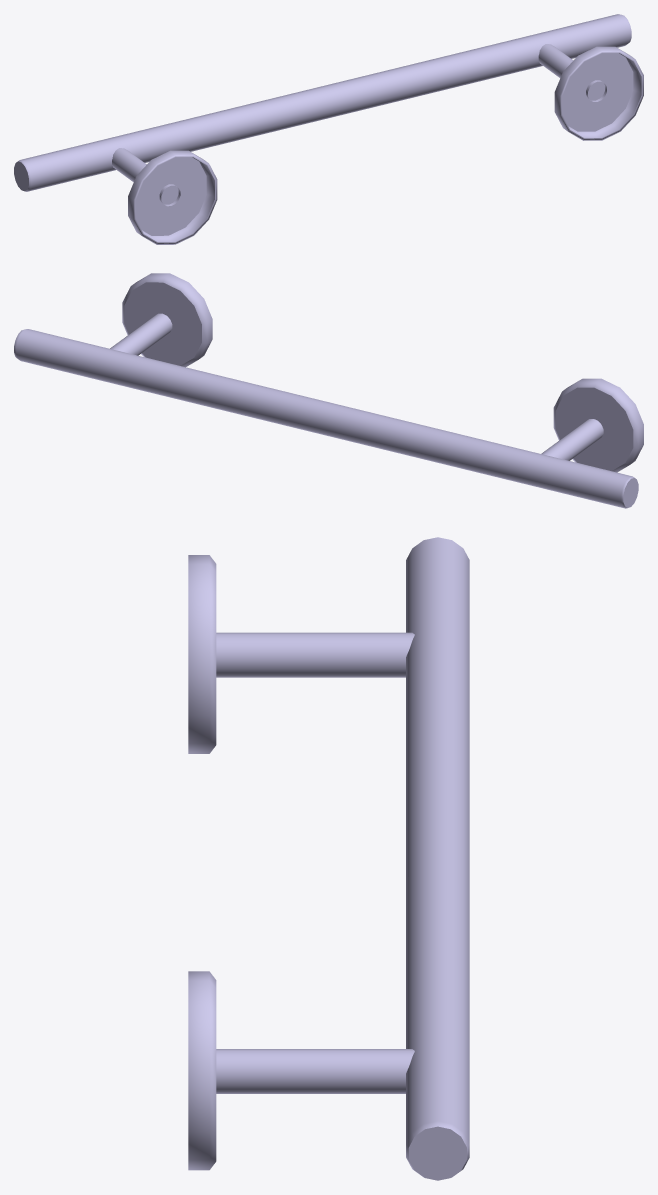
File: Friday_Towel_Rack.fbx
3 views of the same model, one above another, from view 1: azimuth 30°, elevation 25°; view 2: azimuth 150°, elevation 25°; view 3: azimuth 270°, elevation 25° (orthographic). The views are drawn at different scales.
Parts seen in each view (by area): view 1: TowelRack; view 2: TowelRack; view 3: TowelRack.
Part boxes in pixels (x1=…): TowelRack: x1=14, y1=14, x2=643, y2=244; TowelRack: x1=14, y1=273, x2=643, y2=508; TowelRack: x1=188, y1=537, x2=469, y2=1180.
Size of the model in its own units: 307 by 43.77 by 61.98.
